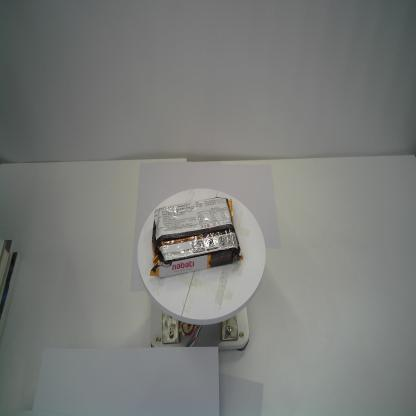Dessert: (148, 196, 244, 280)
